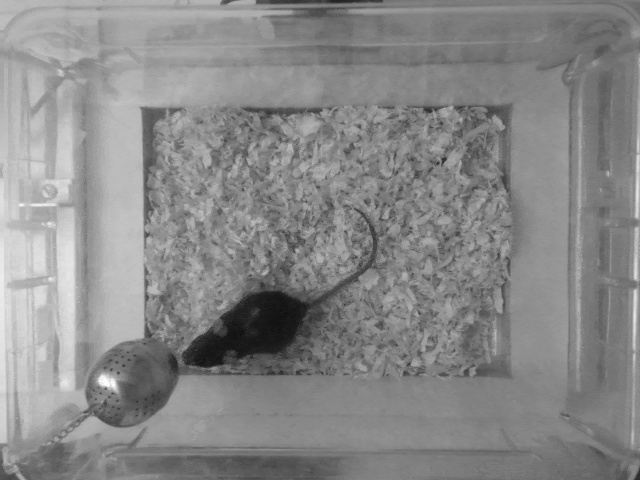mice: (181, 204, 378, 373)
